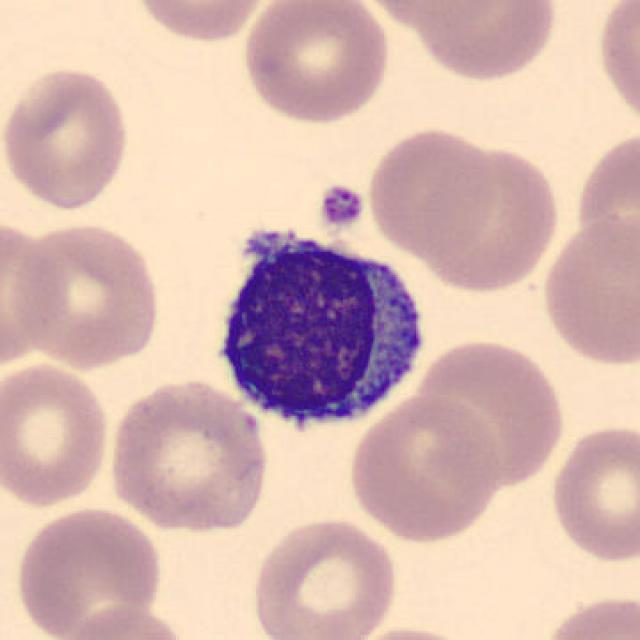Lymphocyte: (201, 217, 435, 441)
Platelets: (315, 180, 368, 233)
RBC: (105, 376, 272, 536), (345, 391, 503, 543), (414, 335, 569, 488), (11, 217, 165, 370), (418, 138, 564, 296), (11, 502, 165, 640), (0, 61, 133, 211), (238, 0, 393, 127), (249, 513, 402, 640), (362, 125, 500, 258), (0, 360, 114, 511), (537, 212, 638, 368), (546, 420, 638, 564), (414, 0, 560, 85), (569, 124, 640, 289), (0, 218, 69, 368), (128, 0, 277, 46), (592, 0, 640, 134), (57, 601, 188, 640), (538, 590, 638, 640), (356, 0, 506, 32), (343, 622, 487, 640)
